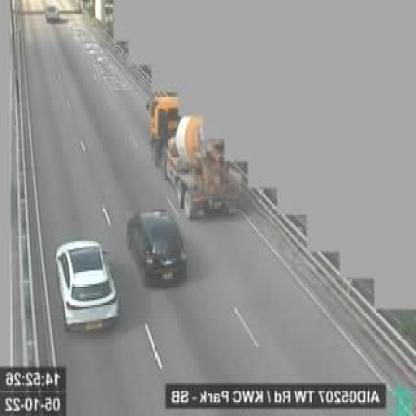Car: (57, 238, 120, 331), (130, 210, 185, 288)
Truck: (148, 95, 242, 215)
